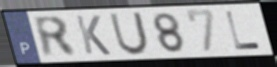7: (183, 7, 221, 55)
8: (149, 12, 187, 54)
K: (73, 14, 113, 57)
L: (224, 10, 264, 52)
R: (30, 15, 80, 60)
U: (108, 11, 151, 57)
